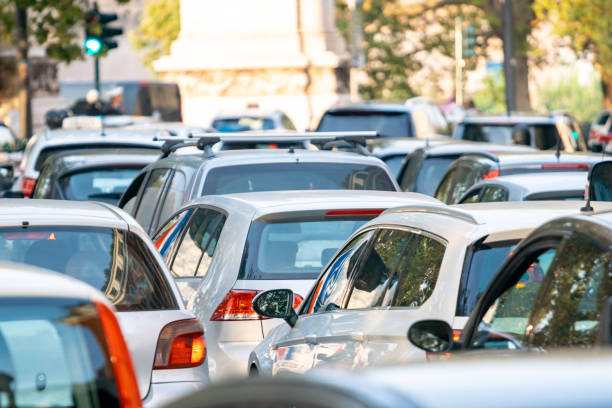car: (264, 190, 507, 408), (172, 181, 354, 396), (15, 193, 214, 384), (448, 203, 608, 408), (2, 261, 140, 408), (127, 150, 350, 208), (42, 141, 152, 205)
